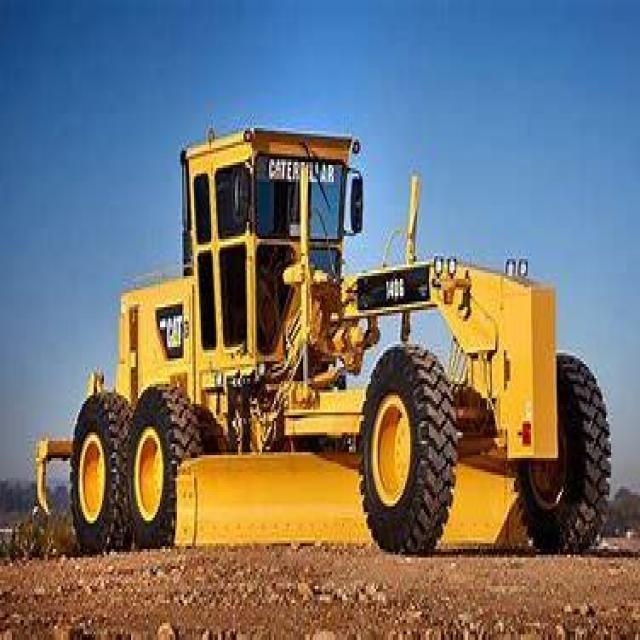buldozerpayloadergrader: (35, 120, 608, 558)
